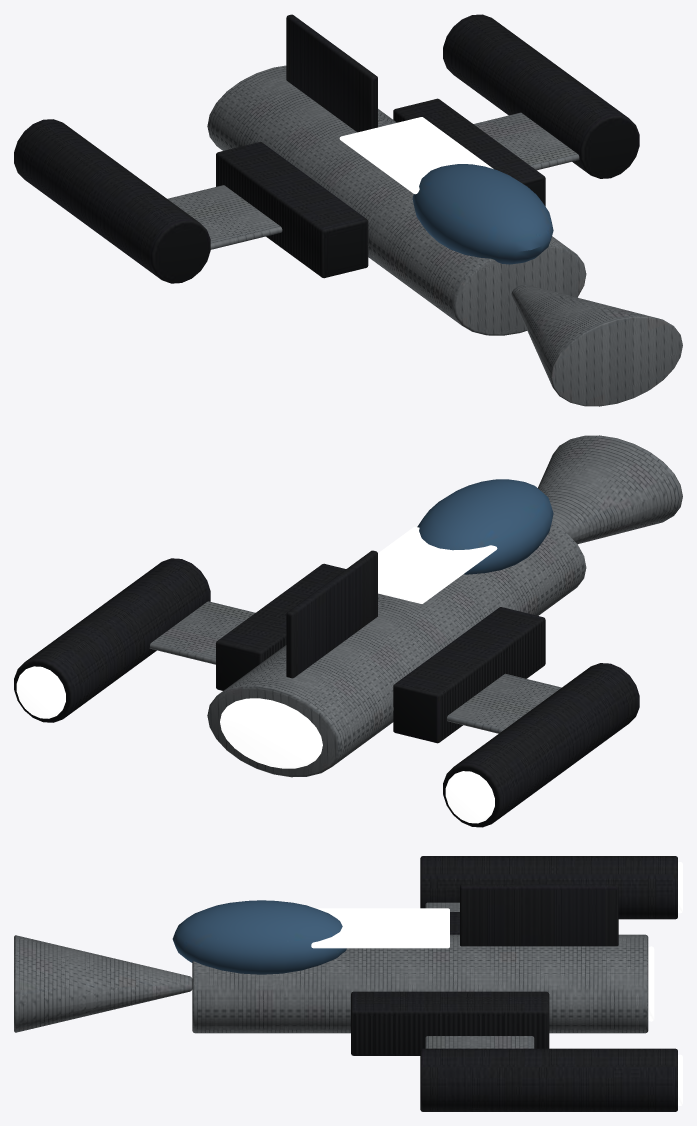
File: ship.glb
3 views of the same model, one above another, from view 1: azimuth 30°, elevation 25°; view 2: azimuth 150°, elevation 25°; view 3: azimuth 270°, elevation 25° (orthographic). The views are drawn at different scales.
Parts seen in each view (by area): view 1: ship; view 2: ship; view 3: ship.
Boxes of the visible parts, box(x1,y1,x2,y2) form: ship: box(14, 14, 682, 406); ship: box(14, 435, 682, 827); ship: box(14, 856, 682, 1111).
Bounding box in the file's own units: 5.23 × 1.54 × 6.75.
5 materials, 5 textured.
